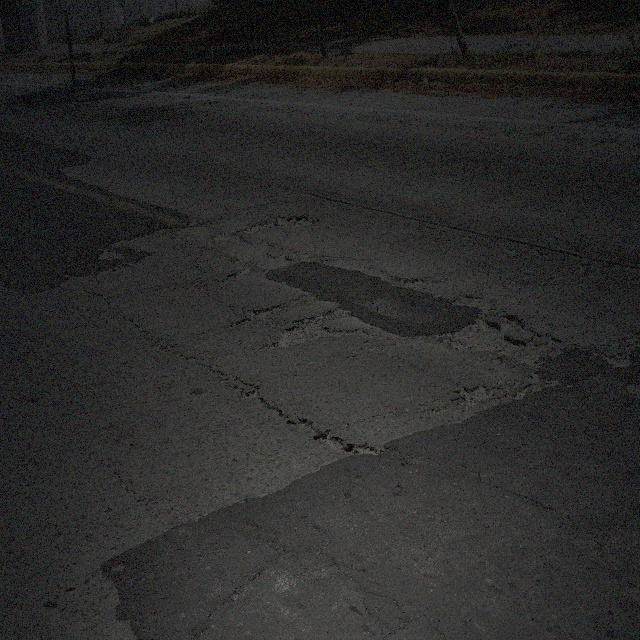pothole: (447, 308, 528, 363), (276, 310, 330, 354), (238, 210, 316, 236), (320, 431, 380, 464), (254, 242, 294, 275), (240, 299, 286, 325), (459, 383, 494, 410), (174, 220, 210, 243), (450, 289, 489, 310), (394, 273, 426, 294), (512, 380, 540, 403), (608, 352, 632, 368), (97, 247, 125, 260), (210, 229, 236, 242)
